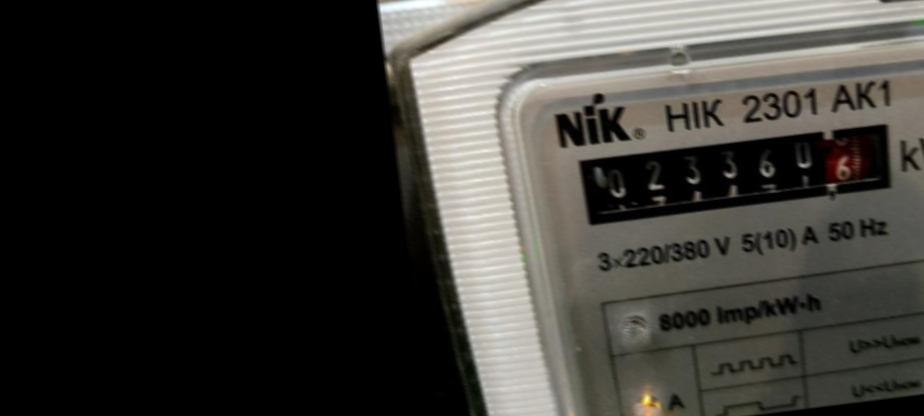0: (604, 163, 629, 198), (793, 136, 814, 168)
2: (641, 155, 668, 191)
3: (679, 150, 704, 185), (717, 145, 740, 178)
6: (754, 143, 777, 177), (830, 149, 854, 180)
screen: (559, 101, 910, 241)
